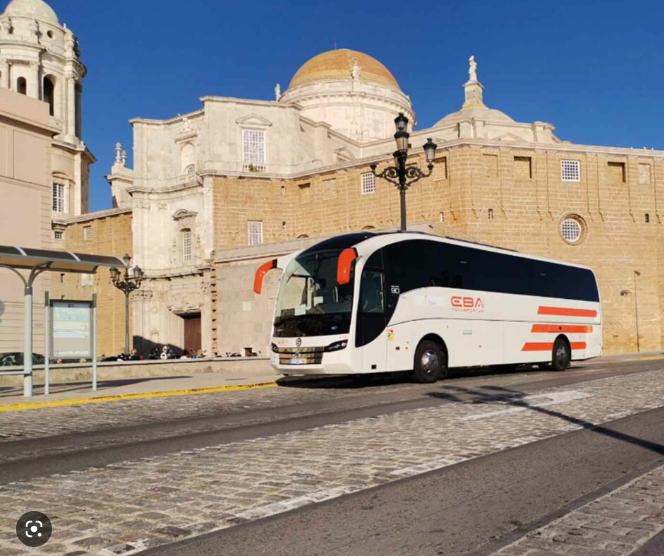vehicle: (254, 231, 603, 384)
